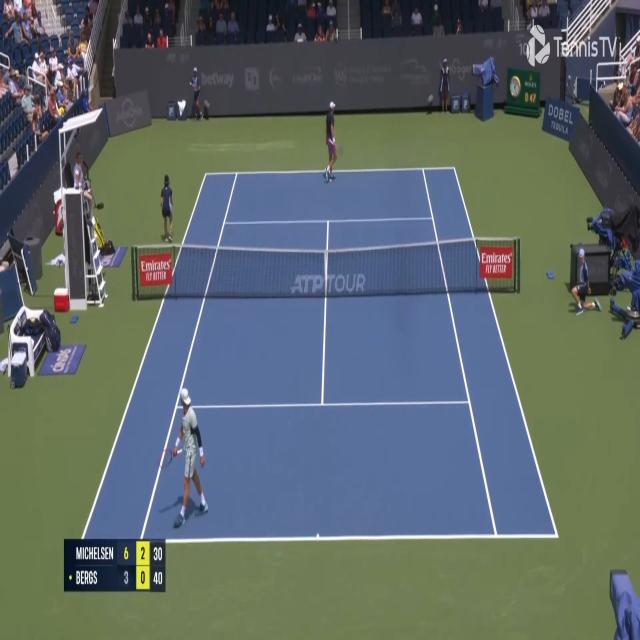tennis-player: (170, 381, 212, 528), (322, 98, 339, 183)
